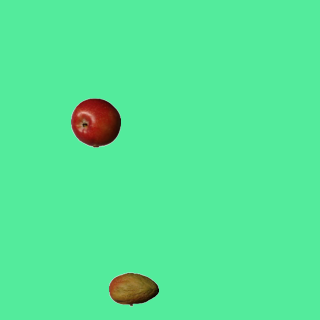Apple Braeburn: (70, 97, 120, 147)
Papaya: (108, 264, 158, 314)
